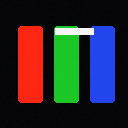3 line_h: (55, 28, 93, 34)
